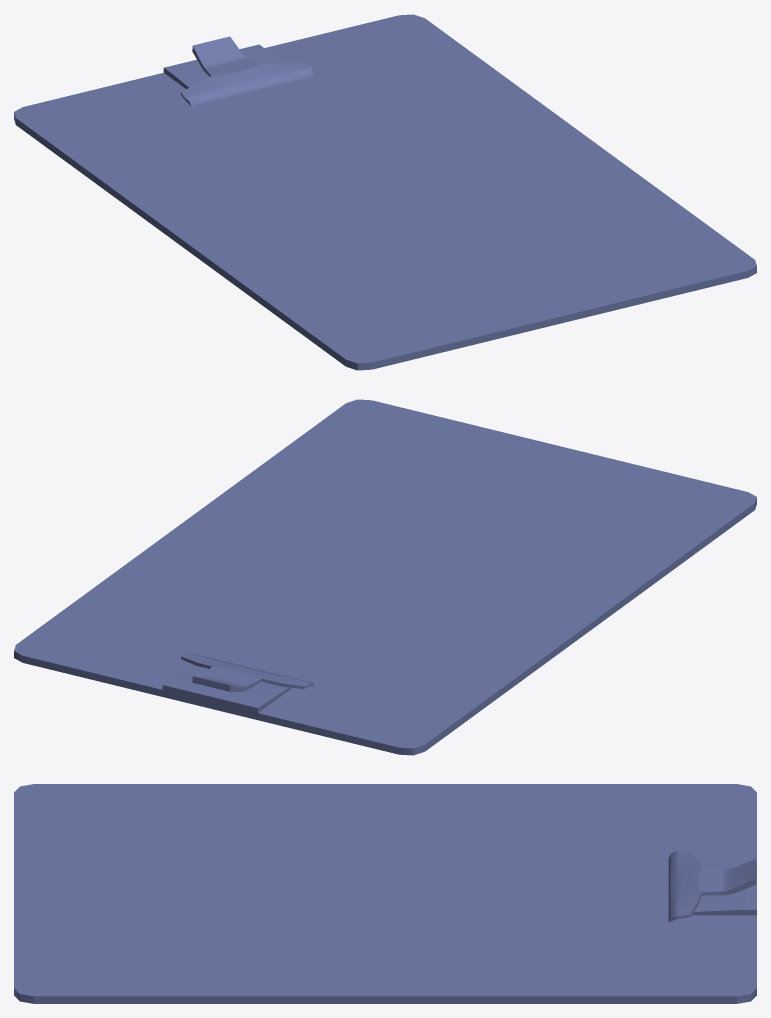
Rendered from seguranca-obj_prancheta.fbx.
3 views of the same model, one above another, from view 1: azimuth 30°, elevation 25°; view 2: azimuth 150°, elevation 25°; view 3: azimuth 270°, elevation 25° (orthographic). The views are drawn at different scales.
Parts seen in each view (by area): view 1: Prancheta_, Presilha; view 2: Prancheta_, Presilha; view 3: Prancheta_, Presilha.
Boxes of the visible parts, x1,y1,x2,y2 form: Prancheta_: [14, 14, 756, 370]; Presilha: [181, 36, 313, 106]; Prancheta_: [14, 399, 756, 755]; Presilha: [181, 652, 313, 691]; Prancheta_: [14, 784, 756, 1003]; Presilha: [668, 850, 756, 921].
Bounding box in the file's own units: 3.2 × 0.2068 × 4.74.
